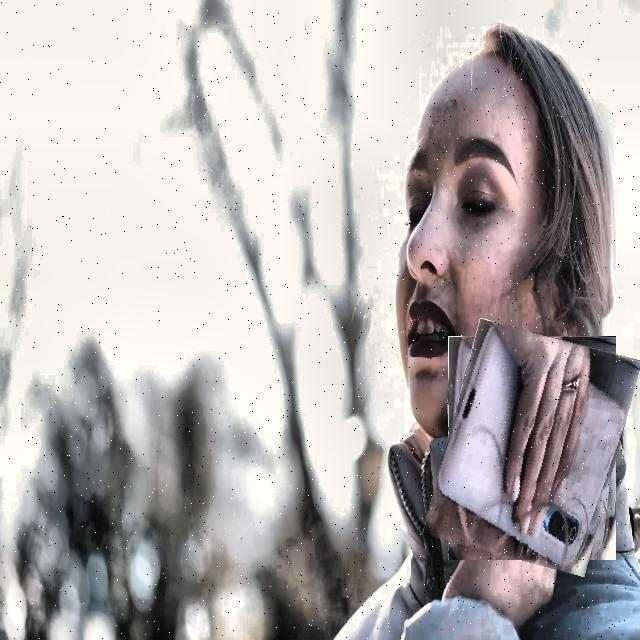Phone: (435, 327, 629, 569)
